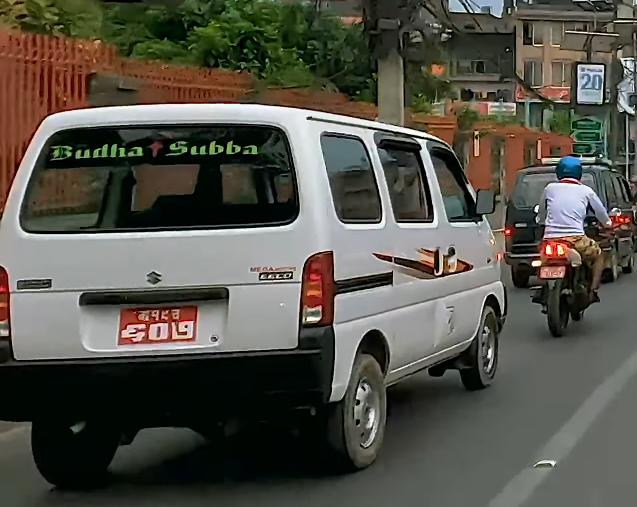bike: (529, 200, 622, 343)
van: (1, 82, 515, 488)
